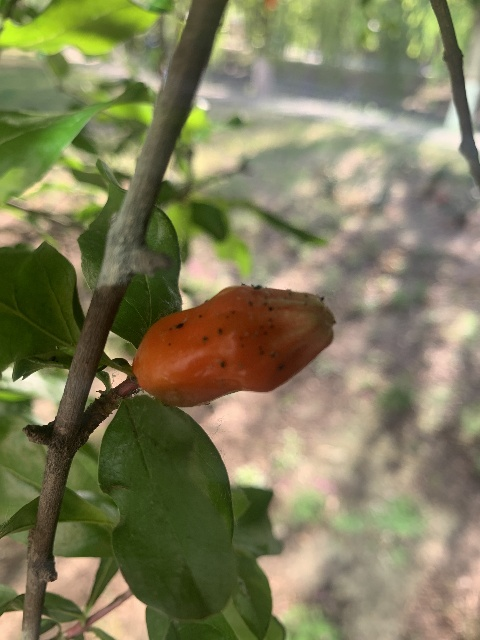bud: (132, 285, 336, 406)
